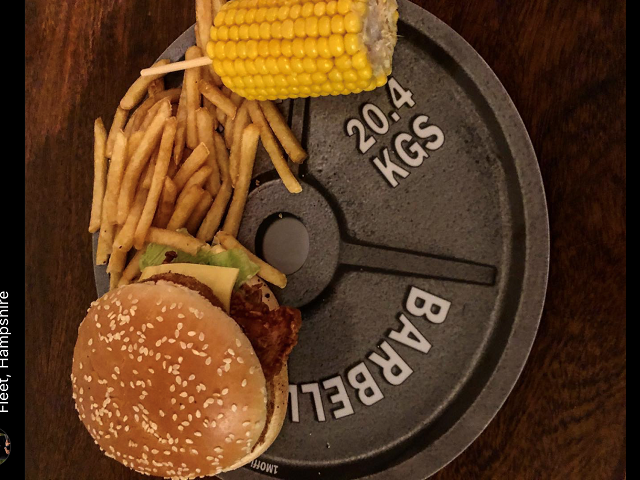weights: (92, 1, 551, 480)
